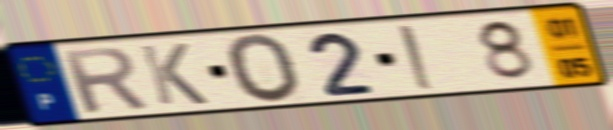2: (302, 26, 384, 101)
8: (475, 18, 538, 83)
I: (394, 22, 439, 92)
K: (135, 41, 212, 107)
O: (222, 31, 305, 106)
R: (56, 44, 153, 116)
